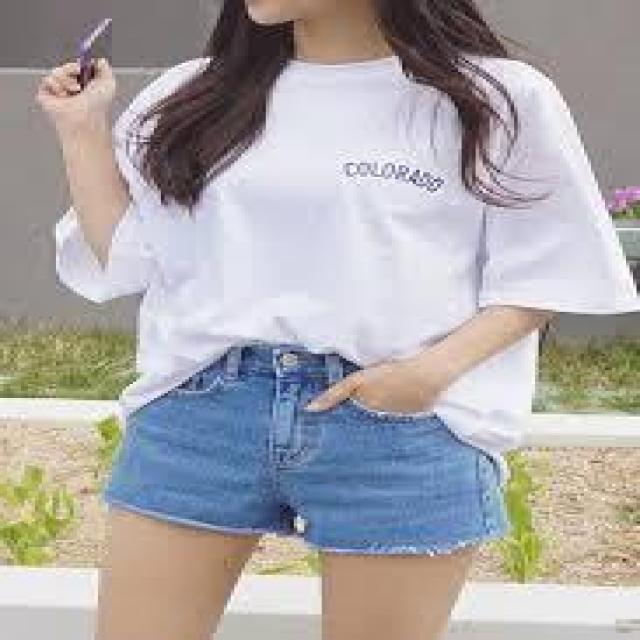Tshirt: (40, 33, 631, 446)
short: (105, 334, 518, 562)
